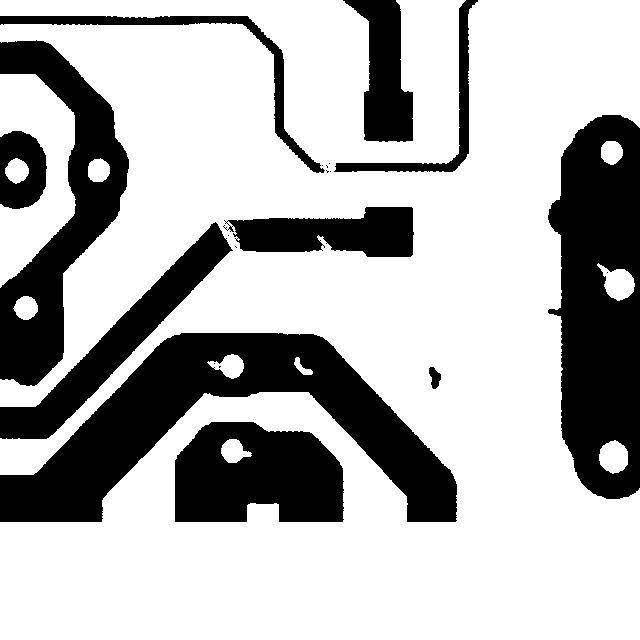copper: (419, 357, 450, 398)
mousebite: (587, 253, 625, 292), (307, 225, 341, 260), (197, 351, 232, 379), (228, 441, 261, 466)
open: (201, 206, 252, 265), (310, 146, 345, 187)
pin-hole: (284, 347, 322, 384)
spur: (538, 297, 576, 325)
